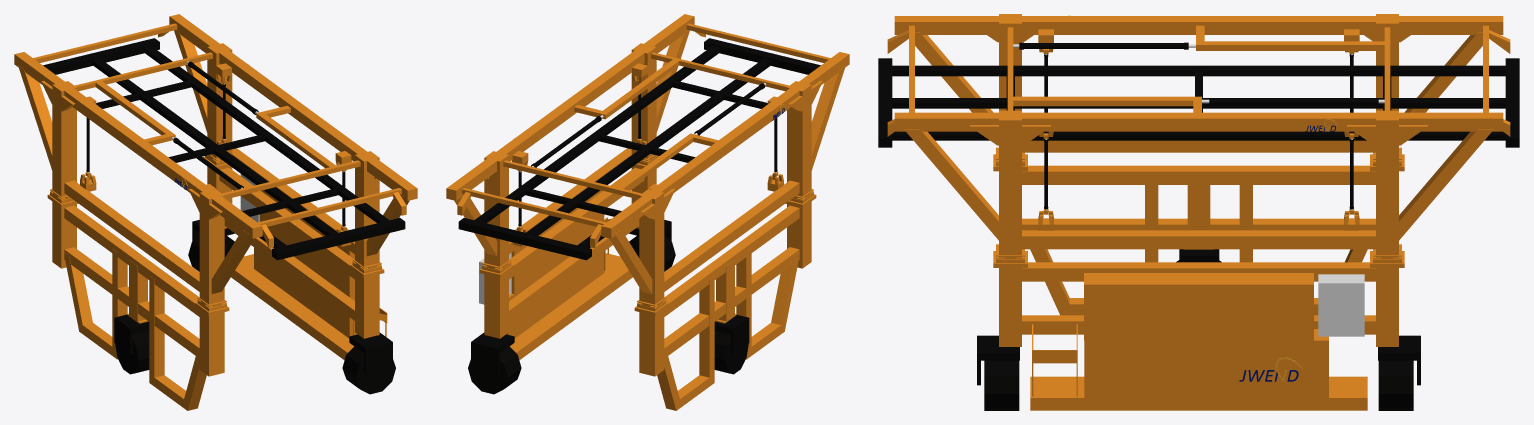
Rendered from 跨运车.FBX.
The picture shows the model from 3 angles, left to right: view 1: azimuth 30°, elevation 25°; view 2: azimuth 150°, elevation 25°; view 3: azimuth 270°, elevation 25°; orthographic projection. The views are drawn at different scales.
Visible parts, largest first — view 1: 机身, 吊具, 轮胎001, 车轮架, 液压杆; view 2: 机身, 吊具, 轮胎001, 车轮架, 液压杆; view 3: 机身, 吊具, 轮胎001, 电箱, 液压杆, 车轮架.
Part boxes in pixels (box(x1,y1,x2,y2)): 机身: box(14, 14, 417, 410); 吊具: box(43, 38, 405, 260); 轮胎001: box(115, 234, 395, 394); 车轮架: box(114, 220, 392, 373); 液压杆: box(86, 61, 345, 226); 机身: box(446, 14, 849, 410); 吊具: box(458, 38, 820, 260); 轮胎001: box(468, 234, 748, 394); 车轮架: box(471, 220, 749, 373); 液压杆: box(518, 83, 777, 226); 机身: box(887, 14, 1510, 410); 吊具: box(878, 58, 1519, 147); 轮胎001: box(984, 260, 1413, 410); 电箱: box(1013, 44, 1384, 336); 液压杆: box(1019, 42, 1378, 209); 车轮架: box(977, 249, 1420, 385).
Size of the model in its own units: 202 by 220 by 435.
